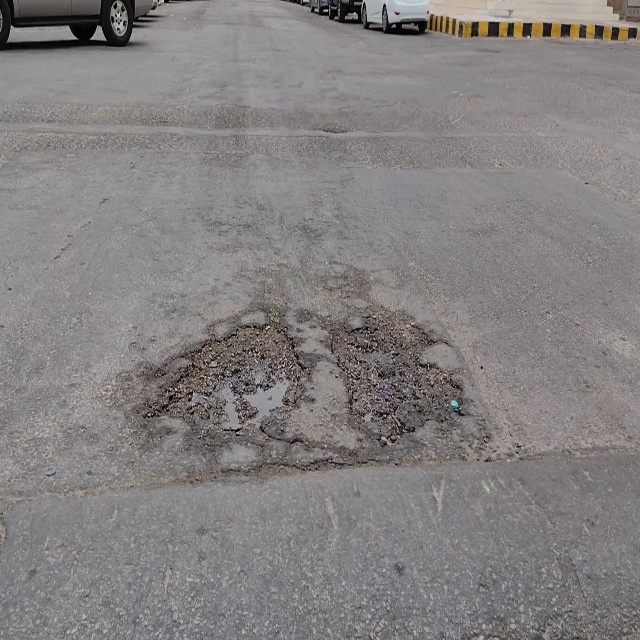pothole: (173, 320, 301, 439), (332, 316, 461, 421)
